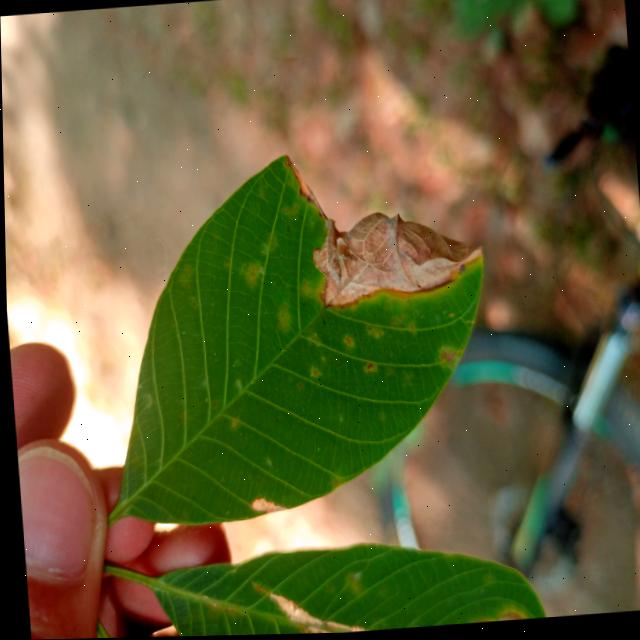Leaf-Blight: (283, 147, 484, 313), (324, 613, 439, 635), (268, 593, 320, 630), (456, 610, 530, 626), (246, 496, 286, 516)
